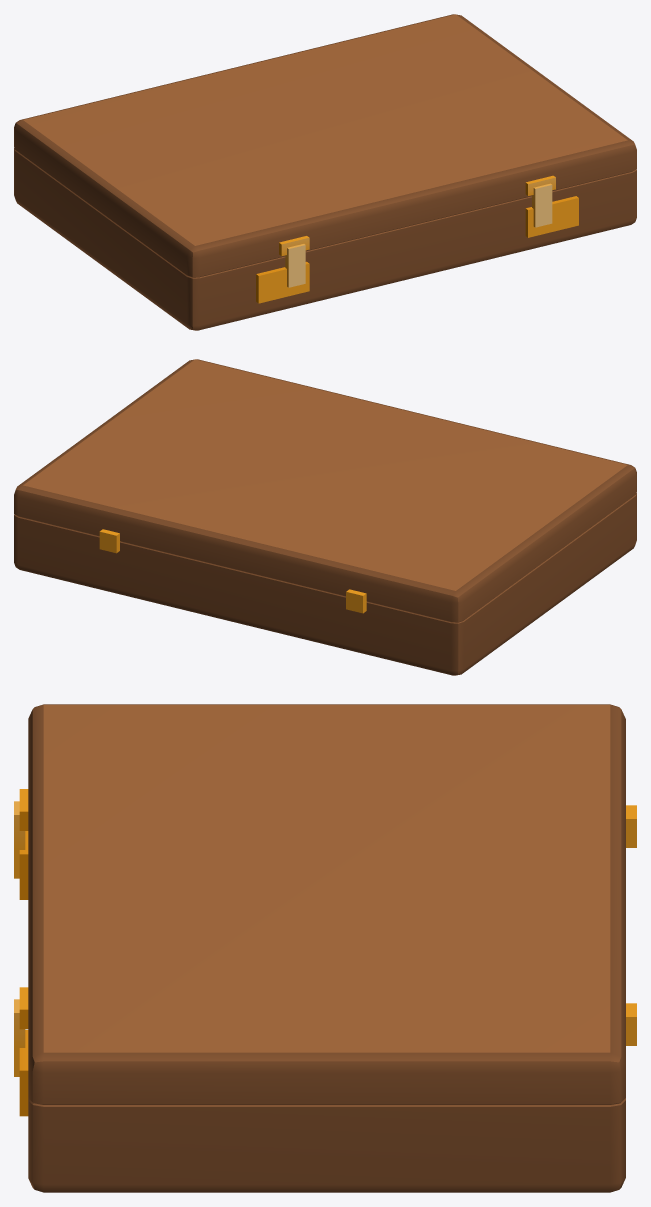
Rendered from Briefcase.fbx.
3 renders of one model, top to bottom at view 1: azimuth 30°, elevation 25°; view 2: azimuth 150°, elevation 25°; view 3: azimuth 270°, elevation 25°, orthographic. The views are drawn at different scales.
Parts seen in each view (by area): view 1: BriefcaseTop, BriefcaseBottom; view 2: BriefcaseTop, BriefcaseBottom; view 3: BriefcaseTop, BriefcaseBottom.
Boxes of the visible parts, <box> form: BriefcaseTop: <box>14,14,636,287</box>; BriefcaseBottom: <box>14,148,636,330</box>; BriefcaseTop: <box>14,359,636,622</box>; BriefcaseBottom: <box>14,493,636,675</box>; BriefcaseTop: <box>14,704,625,1104</box>; BriefcaseBottom: <box>19,805,636,1192</box>.
Size of the model in its own units: 100 by 18 by 72.98.
